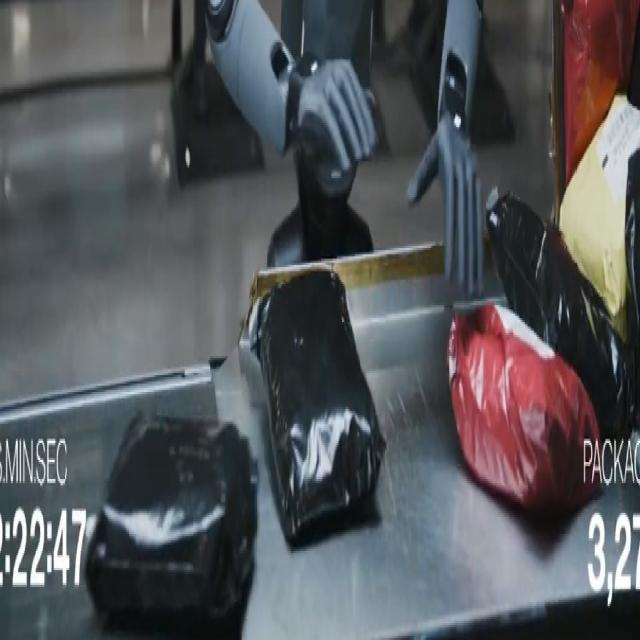package: (487, 193, 634, 438), (257, 270, 385, 544), (86, 416, 257, 620), (448, 306, 599, 514), (560, 96, 639, 339), (561, 0, 639, 184), (625, 149, 639, 370), (628, 17, 639, 108)
